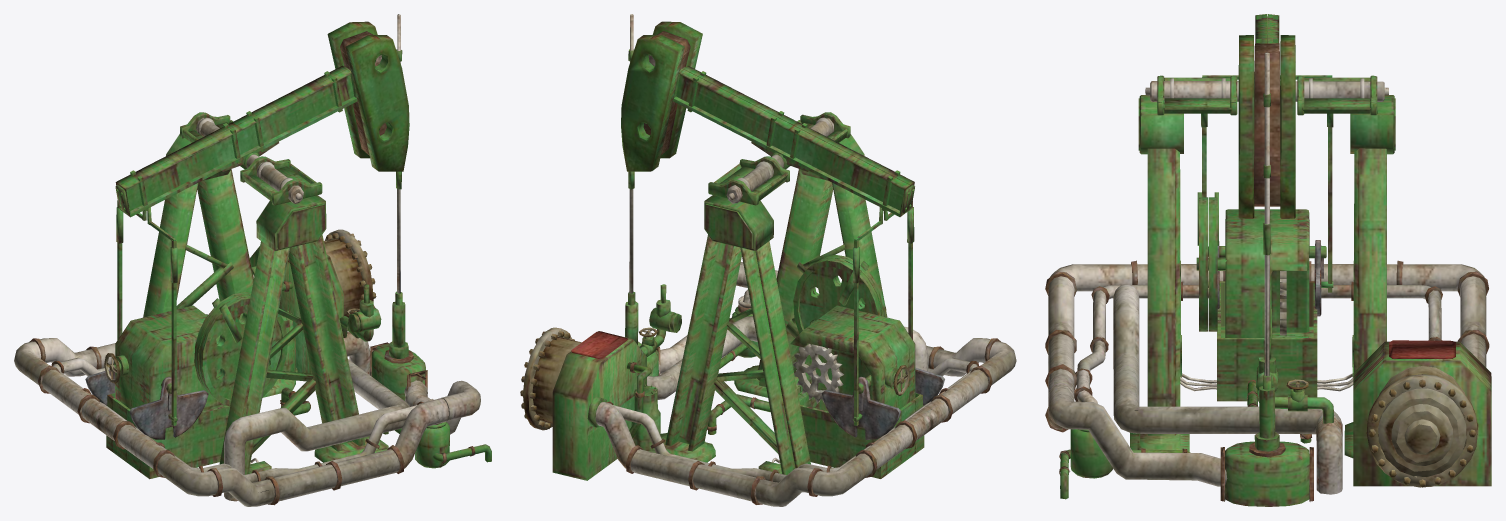
The model's file is pumpjack-south.glb.
3 renders of one model, left to right at view 1: azimuth 30°, elevation 25°; view 2: azimuth 150°, elevation 25°; view 3: azimuth 270°, elevation 25°, orthographic. The views are drawn at different scales.
Parts seen in each view (by area): view 1: body; view 2: body; view 3: body.
Part boxes in pixels (x1,y1,x2,y2): body: (14, 14, 491, 506); body: (520, 14, 1016, 506); body: (1045, 14, 1491, 506).
Bounding box in the file's own units: 3.14 × 3.45 × 3.15.
1 material, 1 textured.
